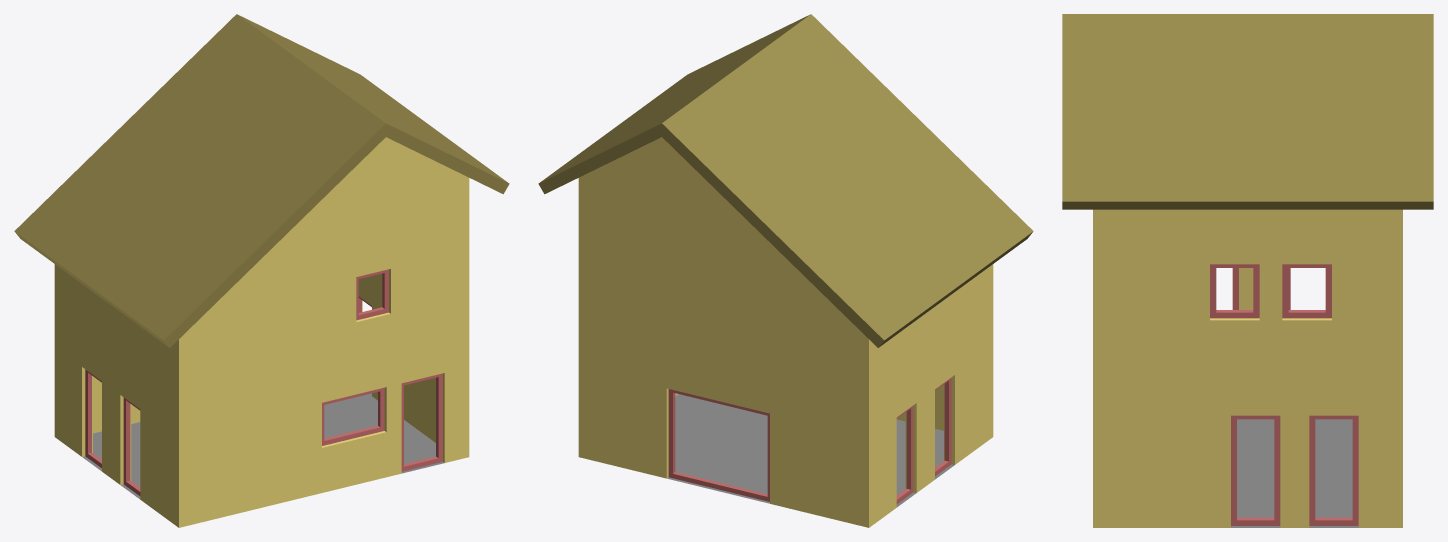
File: result.glb
3 views of the same model, side by side, from view 1: azimuth 30°, elevation 25°; view 2: azimuth 150°, elevation 25°; view 3: azimuth 270°, elevation 25° (orthographic). The views are drawn at different scales.
Parts seen in each view (by area): view 1: 3304e5f8-28ec-4cbb-9222-7200b1fcdc9c__undefined, 848c4900-4c50-4d7e-8f53-a0595cfefe3c__undefined (×2), 4dabe8a6-0126-4d8b-aea5-3b4aafe8fa78__Plane_12, 17f54cdb-db7a-4ae4-8ac3-2fe0ce6ad22a__Box, 0eee8da9-1fdc-452d-bed7-960cc2a195c5__Box_3, ad2b5c72-a03e-44ed-8560-ea7fe28ce667__Box_12, 7d7a41da-7dfd-41d7-be6d-96206f4bb3cd__Box_15, 9b9ce5de-3c13-46aa-96d1-643473f3613b__Box_6; view 2: 3304e5f8-28ec-4cbb-9222-7200b1fcdc9c__undefined, 848c4900-4c50-4d7e-8f53-a0595cfefe3c__undefined (×2), 4dabe8a6-0126-4d8b-aea5-3b4aafe8fa78__Plane_12, 6d009e31-dda2-439a-8e95-79bad3992219__Box_9, 7d7a41da-7dfd-41d7-be6d-96206f4bb3cd__Box_15, ad2b5c72-a03e-44ed-8560-ea7fe28ce667__Box_12; view 3: 3304e5f8-28ec-4cbb-9222-7200b1fcdc9c__undefined, 848c4900-4c50-4d7e-8f53-a0595cfefe3c__undefined, 4dabe8a6-0126-4d8b-aea5-3b4aafe8fa78__Plane_12, 8f03b9b7-f821-4485-833e-344ffea9730c__Box_27, a66b1b01-0c1b-49c1-b376-44d568b5fa3a__Box_24, 2d4ec500-e454-47f7-9ad1-56aaf9d2f96d__Box_30, fbc933cc-a0d4-4681-a5f1-8539a2b7567f__Box_33.
Part boxes in pixels (box(x1,y1,x2,y2)): 3304e5f8-28ec-4cbb-9222-7200b1fcdc9c__undefined: box(54, 137, 469, 527); 848c4900-4c50-4d7e-8f53-a0595cfefe3c__undefined (×2): box(14, 14, 509, 347); 4dabe8a6-0126-4d8b-aea5-3b4aafe8fa78__Plane_12: box(82, 393, 444, 499); 17f54cdb-db7a-4ae4-8ac3-2fe0ce6ad22a__Box: box(401, 373, 442, 471); 0eee8da9-1fdc-452d-bed7-960cc2a195c5__Box_3: box(322, 387, 384, 445); ad2b5c72-a03e-44ed-8560-ea7fe28ce667__Box_12: box(123, 397, 140, 495); 7d7a41da-7dfd-41d7-be6d-96206f4bb3cd__Box_15: box(85, 369, 101, 467); 9b9ce5de-3c13-46aa-96d1-643473f3613b__Box_6: box(356, 269, 388, 320); 3304e5f8-28ec-4cbb-9222-7200b1fcdc9c__undefined: box(578, 137, 993, 527); 848c4900-4c50-4d7e-8f53-a0595cfefe3c__undefined (×2): box(538, 14, 1033, 347); 4dabe8a6-0126-4d8b-aea5-3b4aafe8fa78__Plane_12: box(667, 394, 954, 507); 6d009e31-dda2-439a-8e95-79bad3992219__Box_9: box(668, 389, 769, 501); 7d7a41da-7dfd-41d7-be6d-96206f4bb3cd__Box_15: box(896, 405, 913, 504); ad2b5c72-a03e-44ed-8560-ea7fe28ce667__Box_12: box(935, 377, 951, 476); 3304e5f8-28ec-4cbb-9222-7200b1fcdc9c__undefined: box(1093, 209, 1402, 527); 848c4900-4c50-4d7e-8f53-a0595cfefe3c__undefined: box(1062, 14, 1433, 209); 4dabe8a6-0126-4d8b-aea5-3b4aafe8fa78__Plane_12: box(1231, 419, 1358, 527); 8f03b9b7-f821-4485-833e-344ffea9730c__Box_27: box(1309, 415, 1358, 525); a66b1b01-0c1b-49c1-b376-44d568b5fa3a__Box_24: box(1231, 415, 1280, 525); 2d4ec500-e454-47f7-9ad1-56aaf9d2f96d__Box_30: box(1210, 264, 1259, 318); fbc933cc-a0d4-4681-a5f1-8539a2b7567f__Box_33: box(1282, 264, 1331, 318).
Bounding box in the file's own units: 803 × 812 × 600.
